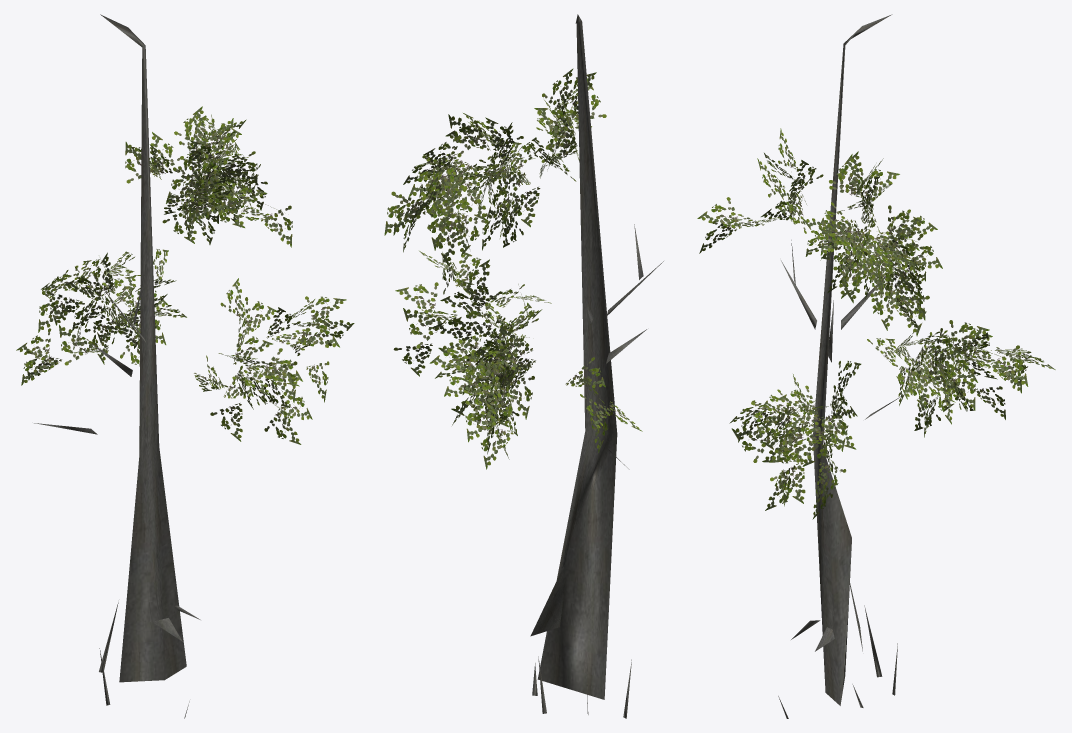
Rendered from tree_plane_far.gltf.
The picture shows the model from 3 angles, left to right: view 1: azimuth 30°, elevation 25°; view 2: azimuth 150°, elevation 25°; view 3: azimuth 270°, elevation 25°; orthographic projection. The views are drawn at different scales.
Parts seen in each view (by area): view 1: tree_plane_far; view 2: tree_plane_far; view 3: tree_plane_far.
Boxes of the visible parts, box(x1,y1,x2,y2) form: tree_plane_far: box(16, 14, 354, 718); tree_plane_far: box(384, 14, 663, 718); tree_plane_far: box(697, 14, 1055, 718).
Size of the model in its own units: 5.2 by 12.21 by 5.82.
Materials: 2 (2 with a texture image).
